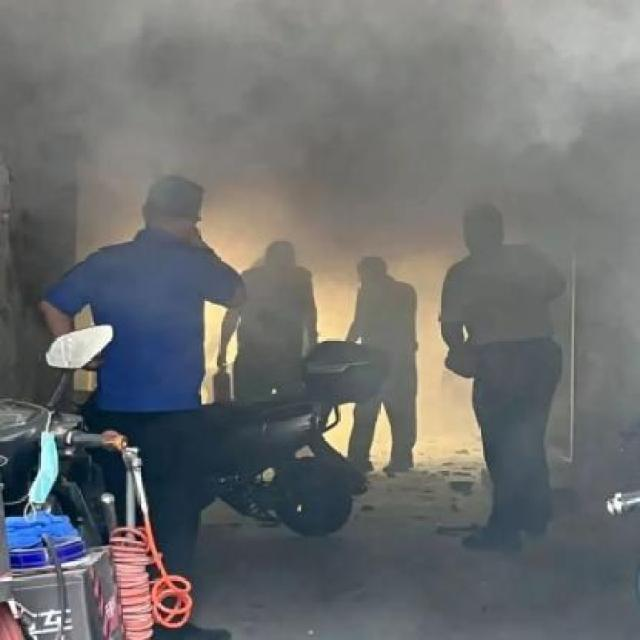Smoke: (5, 5, 638, 254)
